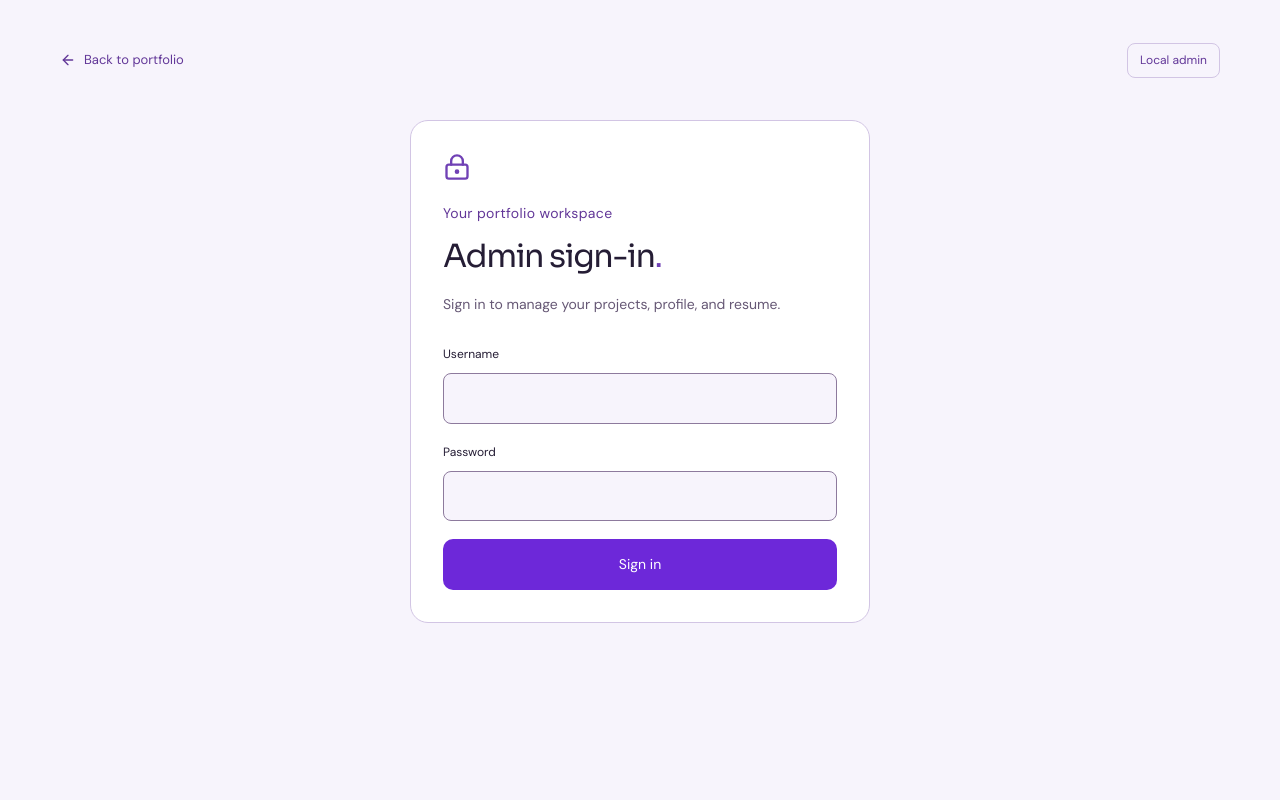
Test: Portfolio admin › requires a successful login before showing editing tools
Check: the heading "Admin sign-in." is shown, box [443,236,662,276]
Check: the button "New project" is not shown
In the field labelled "Username": (640,398) [443,373,837,424], type "testowner"
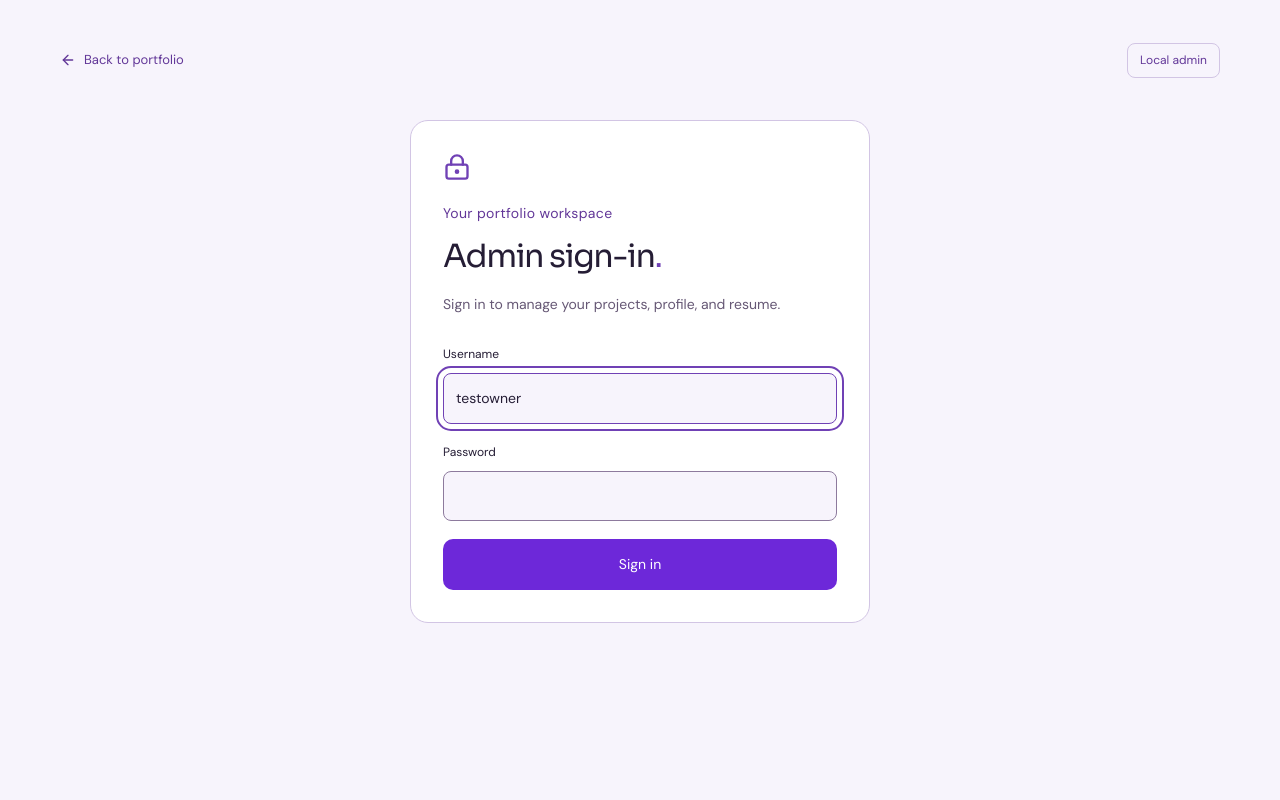
In the password field labelled "Password": (640,496) [443,470,837,521], type "test-password"
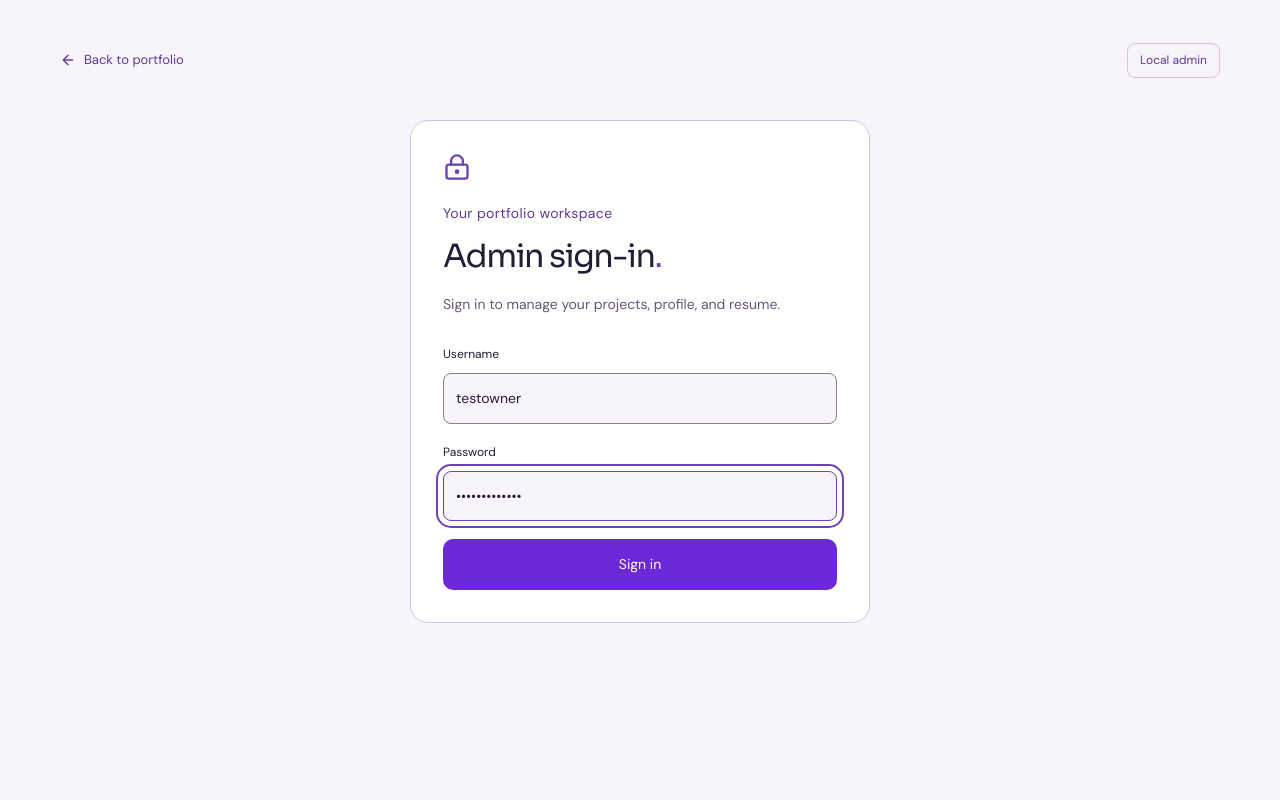
Click the button "Sign in": (640,564) [443,539,837,590]
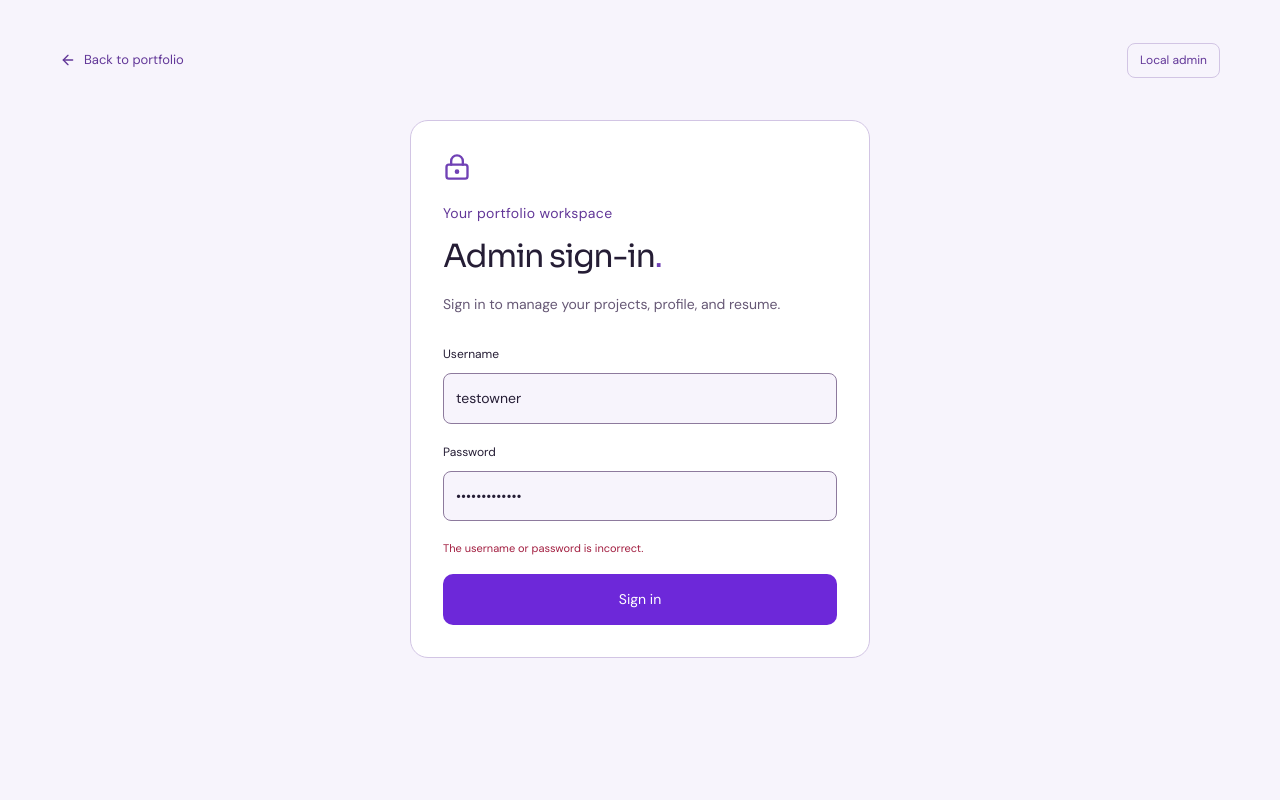
Check: the message shows "incorrect", box [443,541,643,555]
Click the button "Sign in": (640,600) [443,574,837,625]
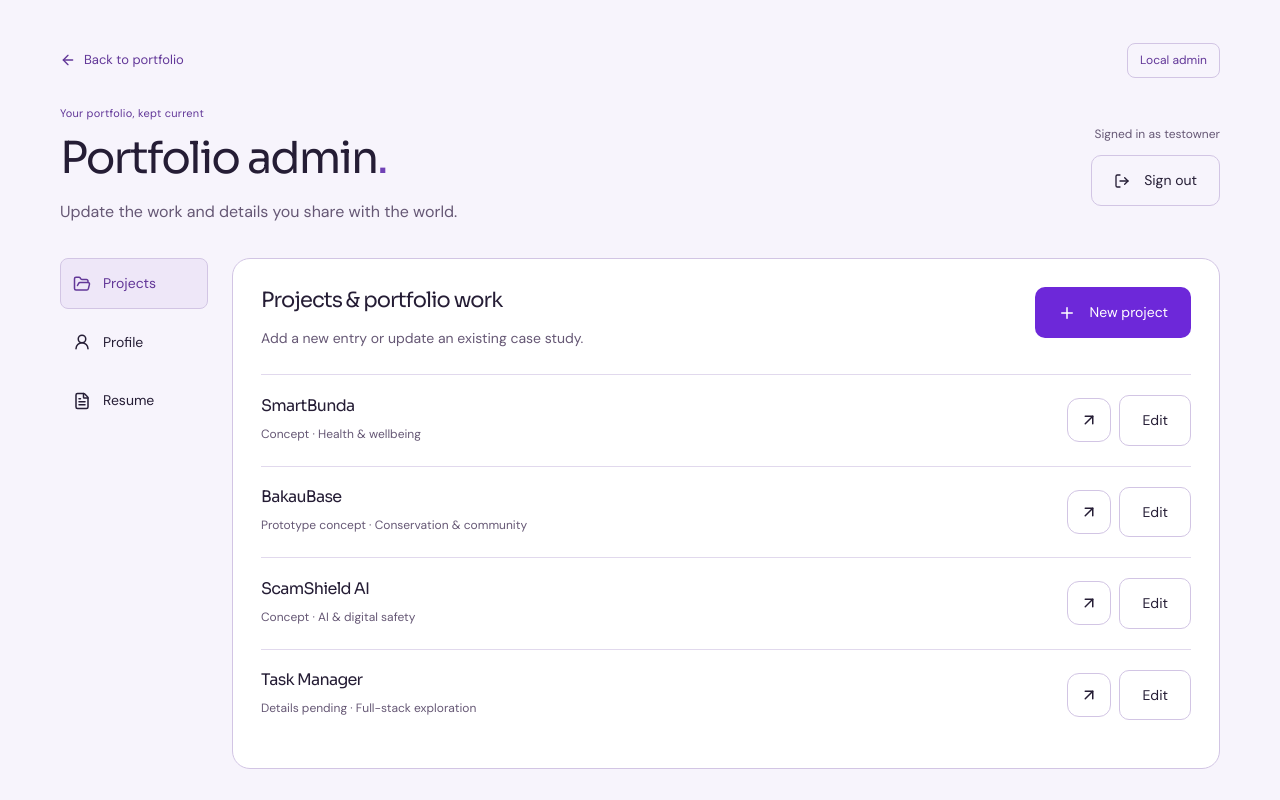
Check: the button "New project" is shown, box [1035,287,1191,338]
